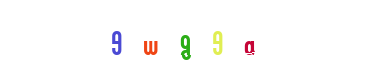9: (76, 0, 156, 80), (153, 0, 233, 80)
A: (166, 0, 246, 80)
G: (152, 0, 232, 80)
W: (145, 0, 225, 80)
